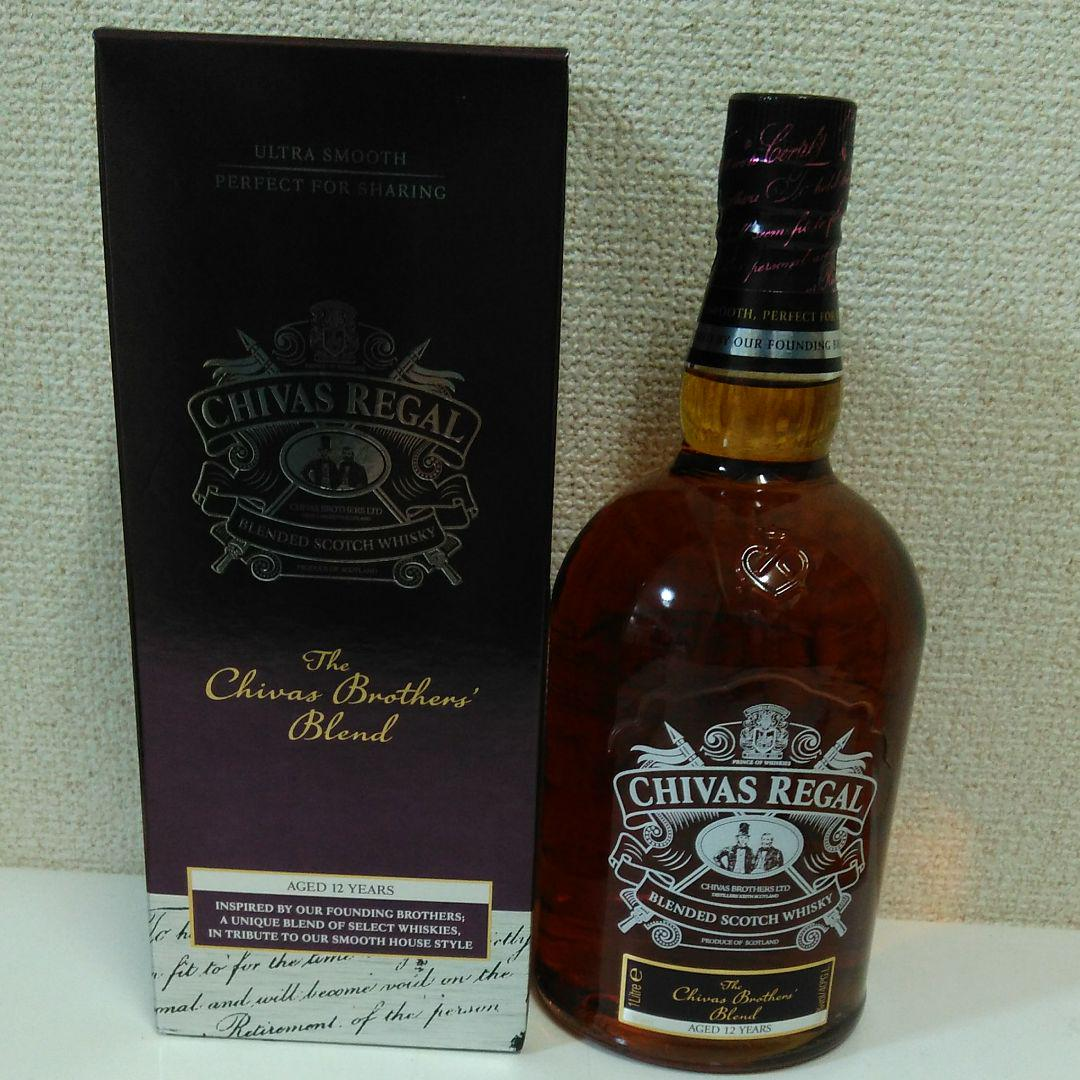Chivas Regal: (509, 71, 955, 1080)
